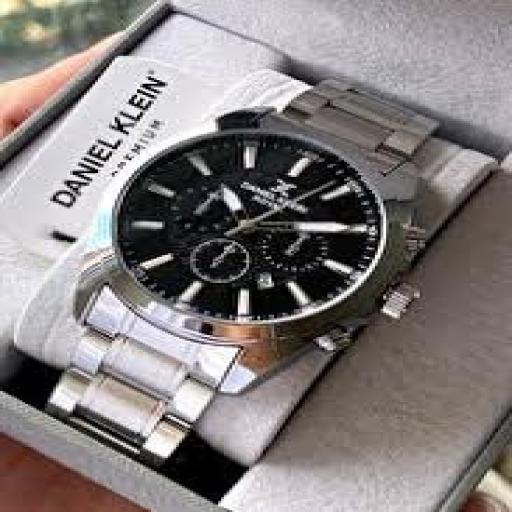KolSaati: (40, 62, 470, 489)
